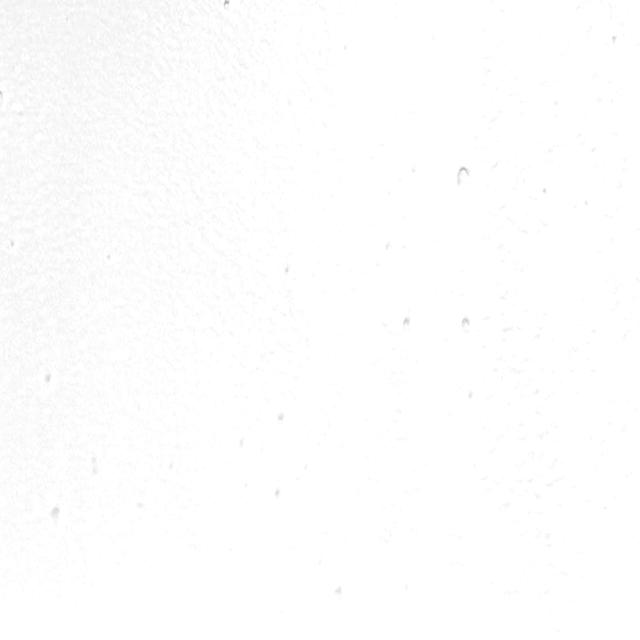pin holes: (452, 163, 474, 195), (48, 504, 68, 534), (455, 313, 476, 338), (329, 583, 349, 607), (272, 410, 290, 434), (42, 371, 59, 391), (401, 312, 416, 333), (608, 34, 624, 52), (221, 0, 238, 15), (272, 486, 285, 502), (0, 89, 8, 112), (540, 185, 552, 200), (9, 238, 20, 252)
